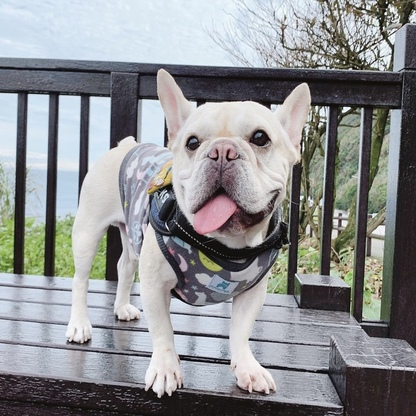bulldog: (63, 65, 312, 400)
